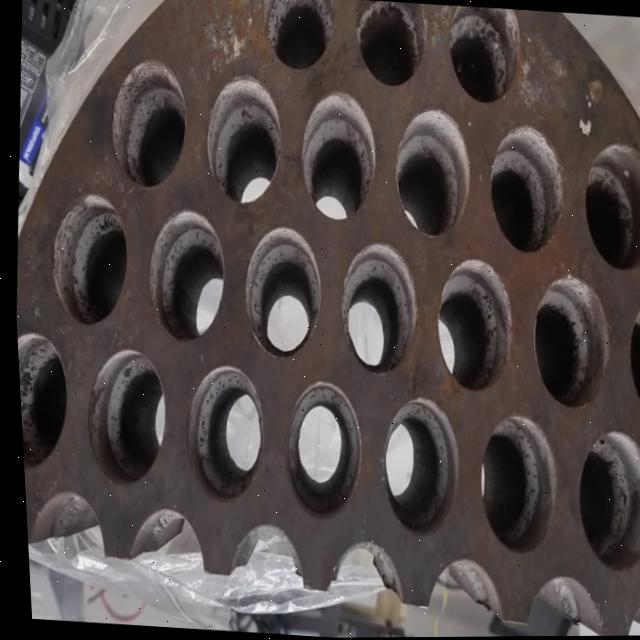Hole: (468, 412, 560, 558), (75, 347, 169, 489), (273, 378, 363, 523), (175, 363, 266, 505), (370, 396, 461, 538), (425, 257, 516, 397), (137, 207, 228, 347), (522, 273, 613, 413), (330, 239, 421, 377), (234, 224, 325, 361), (102, 56, 192, 192), (197, 72, 287, 208), (386, 105, 475, 242), (292, 88, 382, 223), (42, 192, 130, 329), (480, 124, 569, 257), (564, 429, 640, 574), (574, 140, 640, 276), (442, 5, 523, 108), (14, 332, 71, 472), (351, 0, 430, 92), (257, 0, 337, 74), (618, 291, 640, 425)
